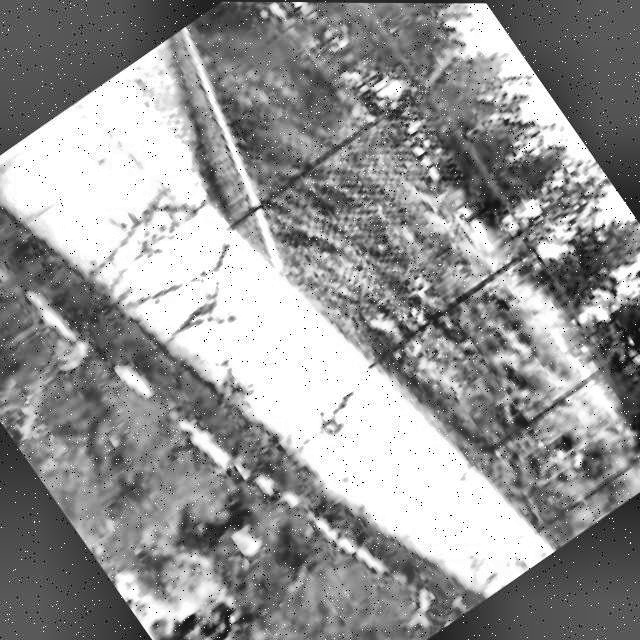Fire: (99, 507, 280, 640)
